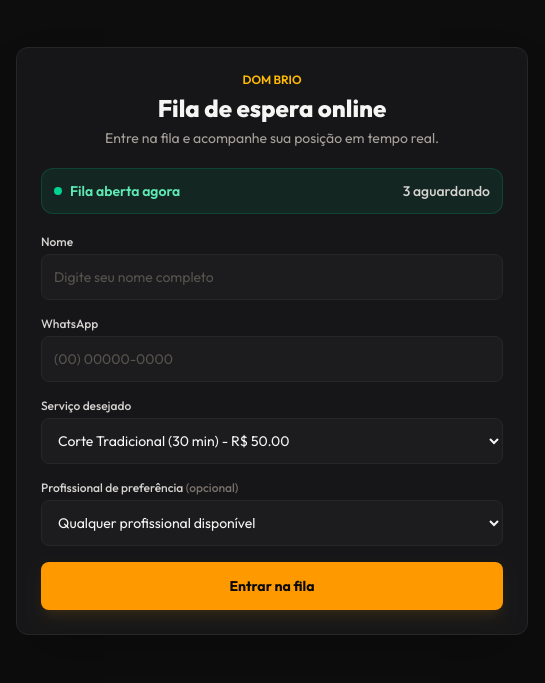
Scenario: PR #20 - tela pública da fila online › 3. formulário exige nome
Check: the text "Fila aberta agora" is shown, box top-left (70, 181), bottom-right (180, 201)
Step 1. Type "(17) 99887-7654" into the field labelled "WhatsApp" → (272, 359), box top-left (41, 336), bottom-right (503, 382)
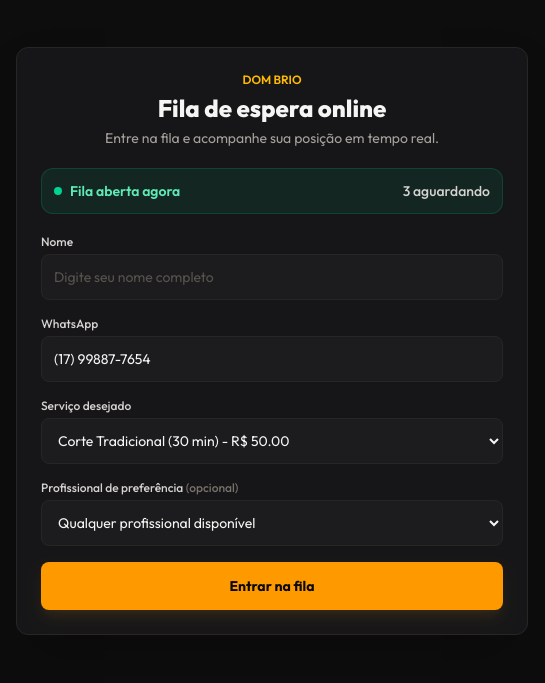
Step 2. Click the button "Entrar na fila" → (272, 586), box top-left (41, 562), bottom-right (503, 610)
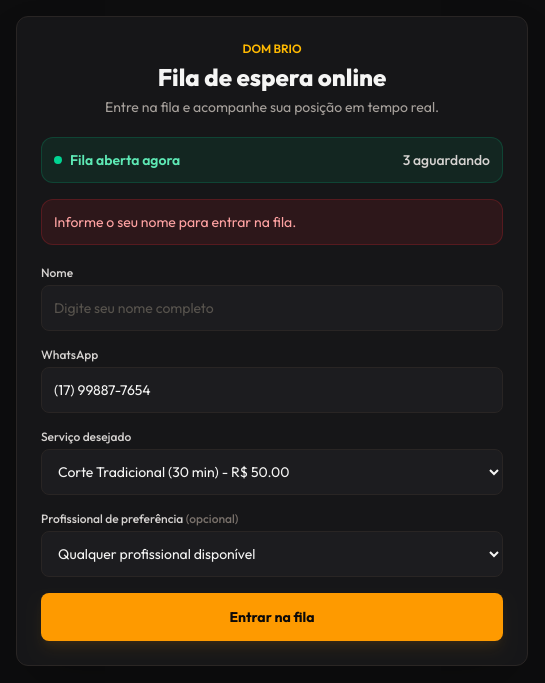
Check: the text "Informe o seu nome para entrar na fila." is shown, box top-left (41, 199), bottom-right (503, 245)
